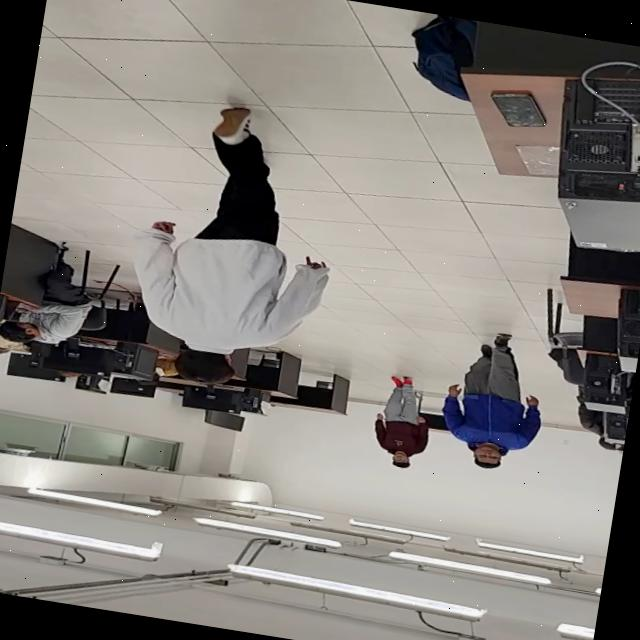Persona: (110, 93, 350, 404), (431, 322, 558, 479), (359, 368, 442, 480)
